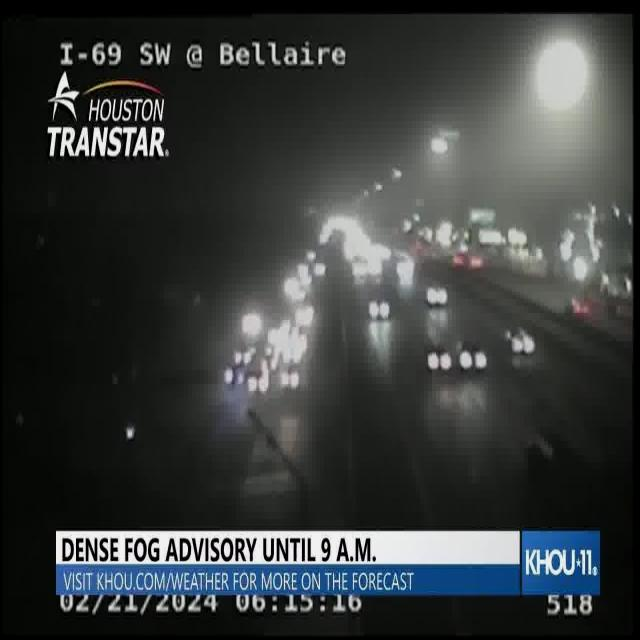Car: (457, 336, 486, 378), (505, 324, 535, 362), (425, 335, 451, 377), (424, 280, 449, 316), (368, 294, 392, 328), (279, 364, 302, 396)
